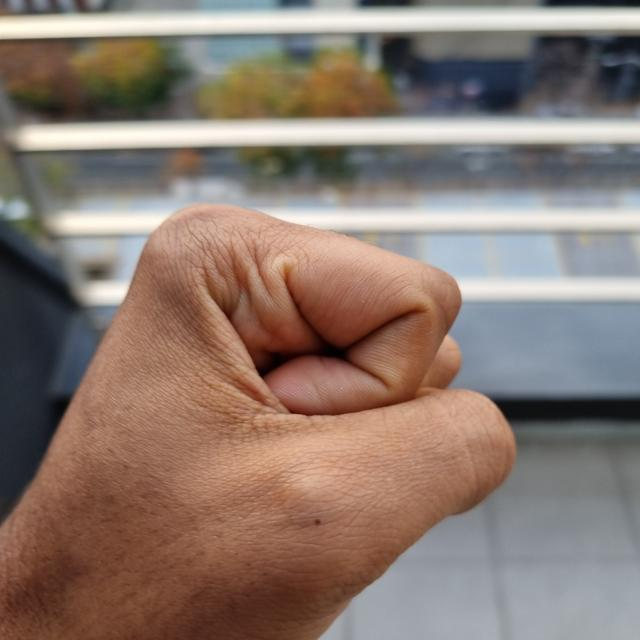Rock: (0, 210, 512, 639)
